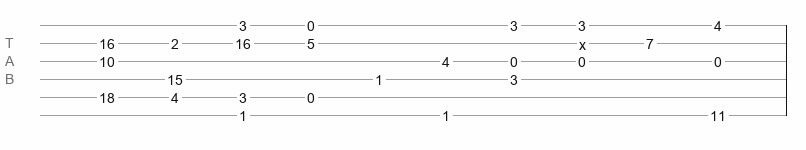0: (307, 90, 315, 100), (307, 18, 315, 28), (510, 54, 518, 64), (578, 54, 586, 64), (714, 54, 722, 64)
1: (239, 108, 247, 118), (375, 72, 383, 82), (442, 108, 450, 118)
10: (99, 54, 115, 64)
11: (710, 108, 726, 118)
15: (167, 72, 183, 82)
16: (99, 36, 115, 46), (235, 36, 251, 46)
18: (99, 90, 115, 100)
2: (171, 36, 179, 46)
3: (239, 90, 247, 100), (239, 18, 247, 28), (510, 72, 518, 82), (510, 18, 518, 28), (578, 18, 586, 28)
4: (171, 90, 179, 100), (442, 54, 450, 64), (714, 18, 722, 28)
5: (307, 36, 315, 46)
7: (646, 36, 654, 46)
x: (579, 37, 586, 45)
